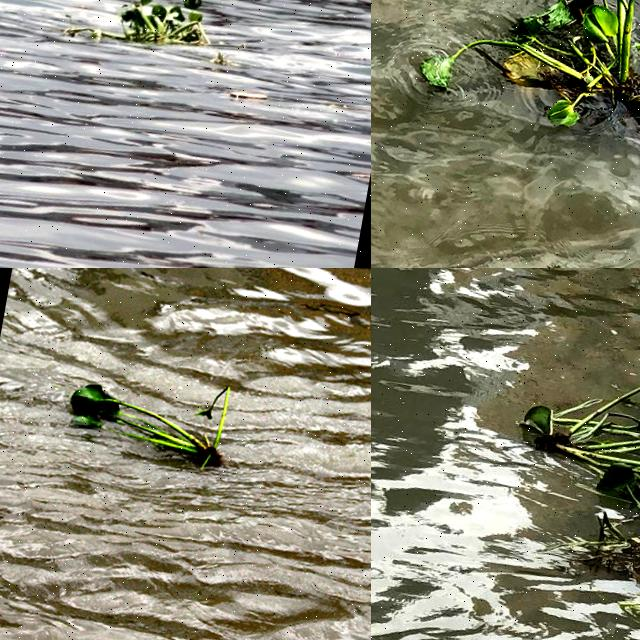water-hyacinth: (487, 357, 640, 640), (419, 1, 640, 141), (57, 350, 242, 481), (73, 1, 224, 61)
